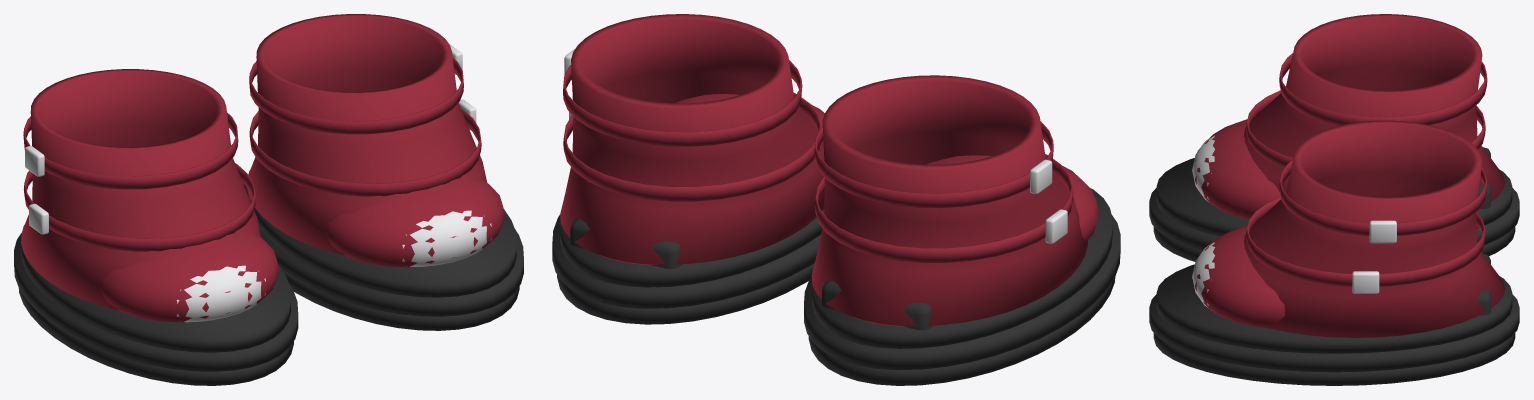
Rendered from newrocks2.fbx.
3 renders of one model, left to right at view 1: azimuth 30°, elevation 25°; view 2: azimuth 150°, elevation 25°; view 3: azimuth 270°, elevation 25°, orthographic. The views are drawn at different scales.
Parts seen in each view (by area): view 1: newrocks2; view 2: newrocks2; view 3: newrocks2.
Part boxes in pixels (box(x1,y1,x2,y2)): newrocks2: box(14, 14, 523, 385); newrocks2: box(552, 14, 1120, 385); newrocks2: box(1149, 14, 1519, 385).
Bounding box in the file's own units: 0.684 × 0.2774 × 0.52.
